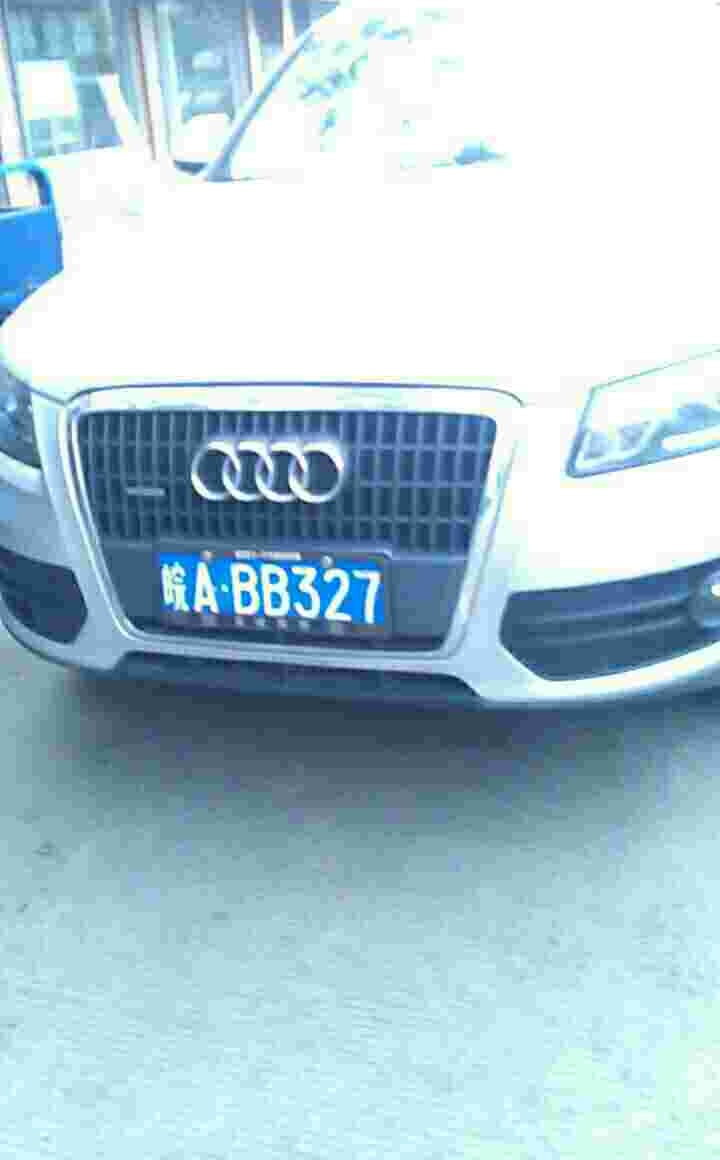license_plate: (151, 549, 388, 613)
